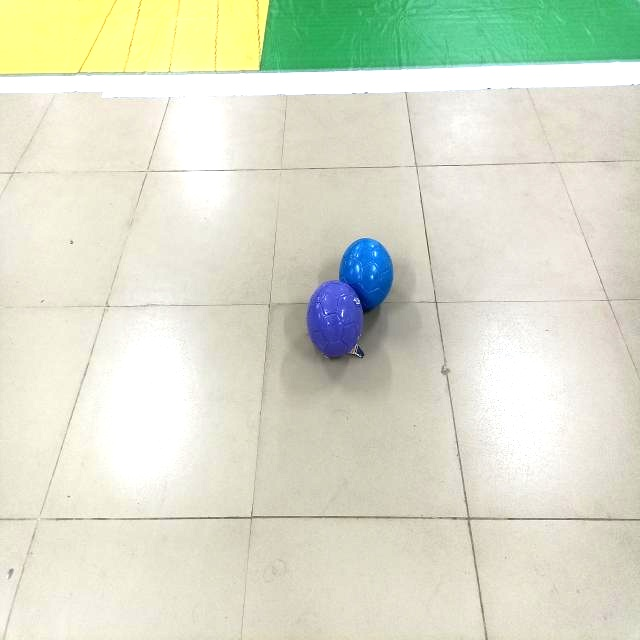blue_ball: (338, 236, 393, 304)
purple_ball: (309, 282, 362, 358)
